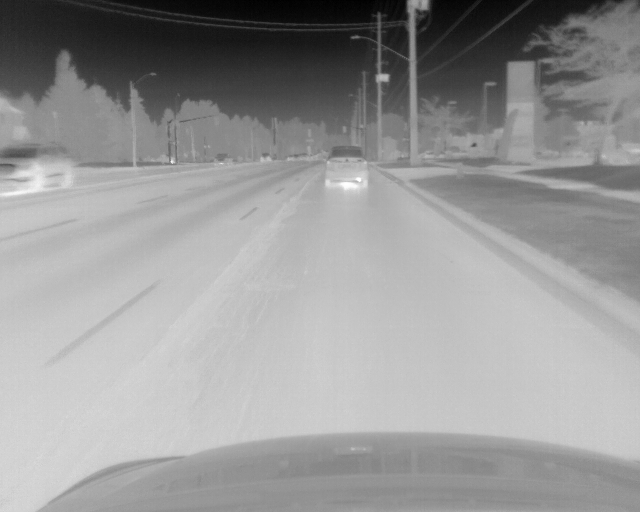car: (1, 144, 77, 194), (324, 146, 368, 189), (213, 153, 230, 166), (260, 154, 272, 161)
